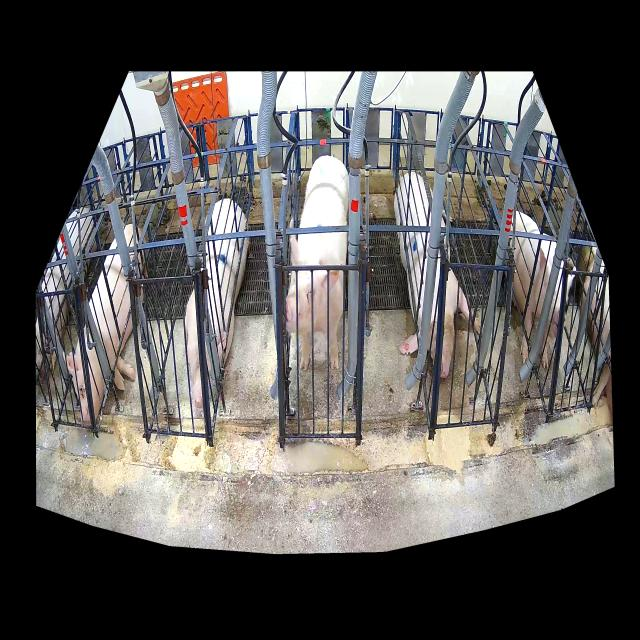pig: (66, 224, 149, 426), (394, 172, 469, 378), (286, 155, 349, 372), (184, 199, 248, 409), (512, 210, 576, 368)
